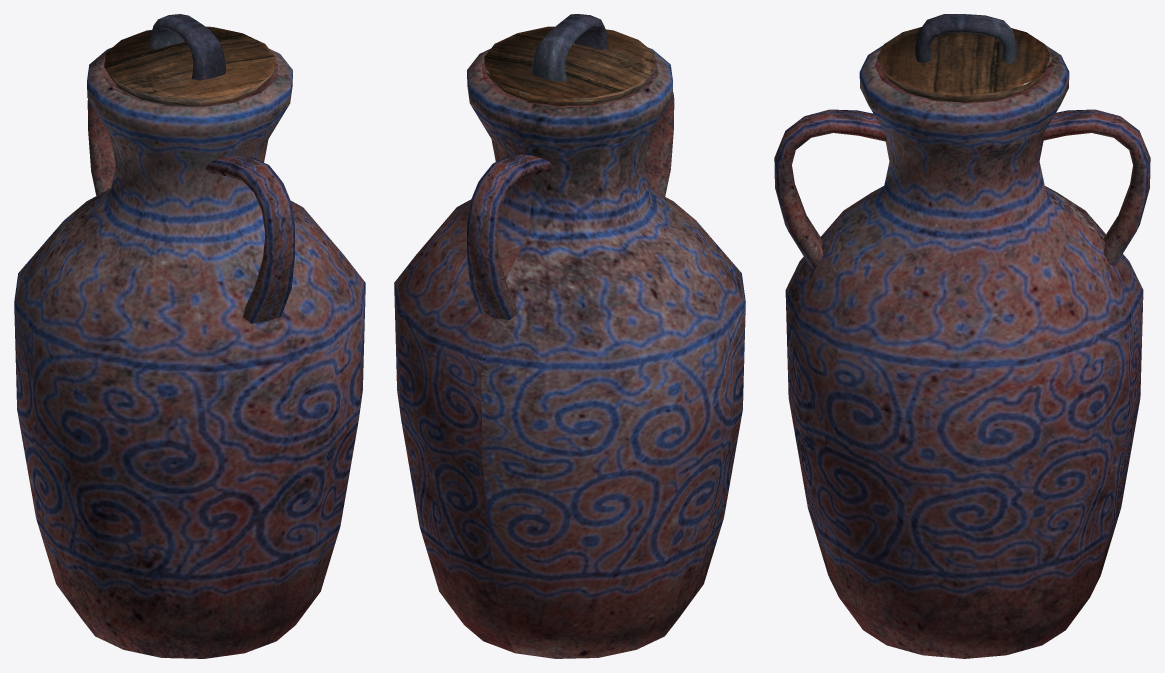
The model's file is Ceramic_container_A.FBX.
3 views of the same model, side by side, from view 1: azimuth 30°, elevation 25°; view 2: azimuth 150°, elevation 25°; view 3: azimuth 270°, elevation 25° (orthographic).
Visible parts, largest first — view 1: Ceramic_container_A, Ceramic_container_A_cover; view 2: Ceramic_container_A, Ceramic_container_A_cover; view 3: Ceramic_container_A, Ceramic_container_A_cover.
Boxes of the visible parts, box(x1,y1,x2,y2) form: Ceramic_container_A: box(14, 47, 365, 658); Ceramic_container_A_cover: box(104, 14, 275, 105); Ceramic_container_A: box(394, 47, 745, 658); Ceramic_container_A_cover: box(484, 14, 655, 105); Ceramic_container_A: box(774, 45, 1150, 658); Ceramic_container_A_cover: box(877, 14, 1051, 102).
Size of the model in its own units: 22.78 by 41.77 by 23.95.
